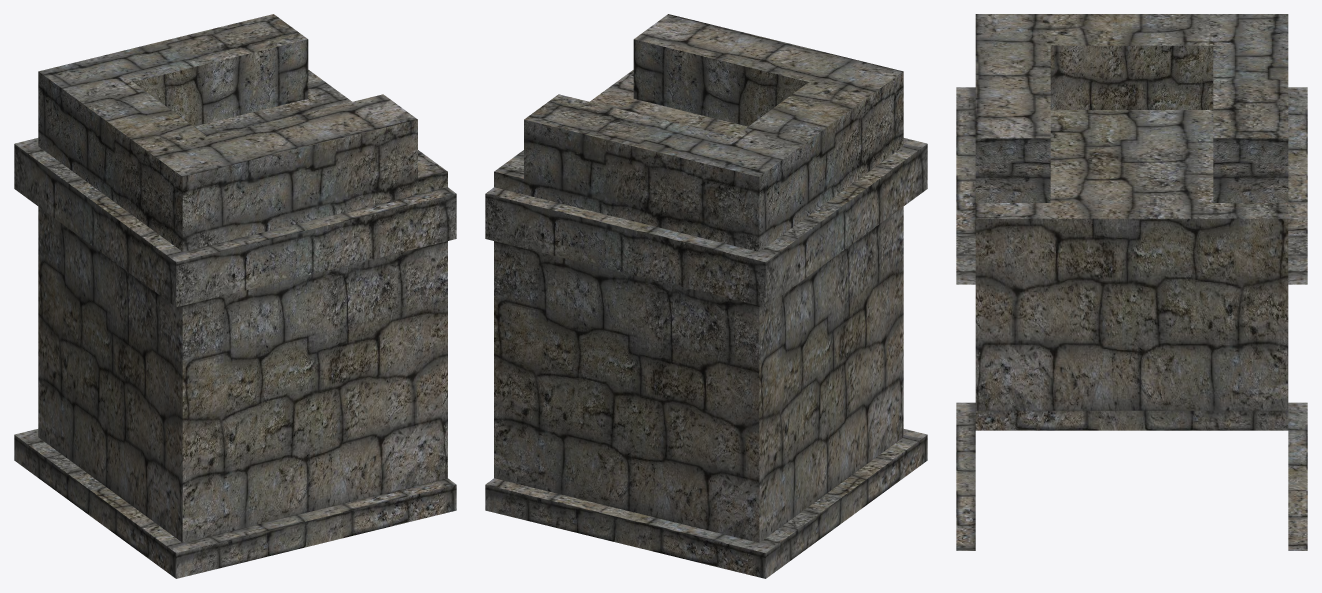
File: Fort_00001000.gltf
3 views of the same model, side by side, from view 1: azimuth 30°, elevation 25°; view 2: azimuth 150°, elevation 25°; view 3: azimuth 270°, elevation 25° (orthographic). The views are drawn at different scales.
Visible parts, largest first — view 1: Claimed_00001000; view 2: Claimed_00001000; view 3: Claimed_00001000.
Boxes of the visible parts, bbox=[...] form: Claimed_00001000: bbox=[14, 14, 456, 578]; Claimed_00001000: bbox=[485, 14, 927, 578]; Claimed_00001000: bbox=[956, 14, 1307, 550].
Size of the model in its own units: 2.5 by 3.34 by 2.5.
Materials: 1 (1 with a texture image).
